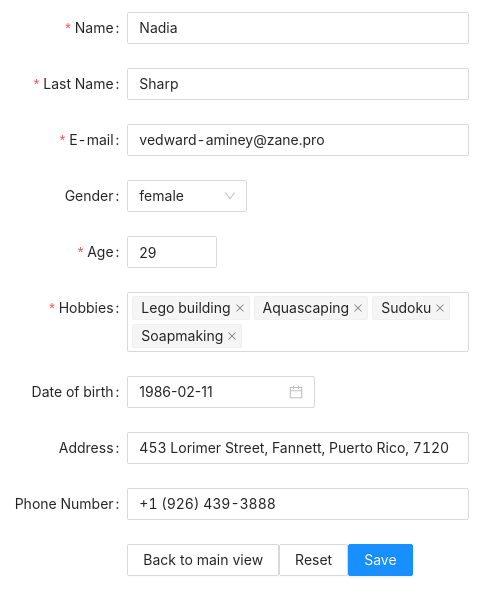
it: User Form Tests › Name validation
Clear the field labelled "Name" at (298, 28), box [127, 12, 468, 44]
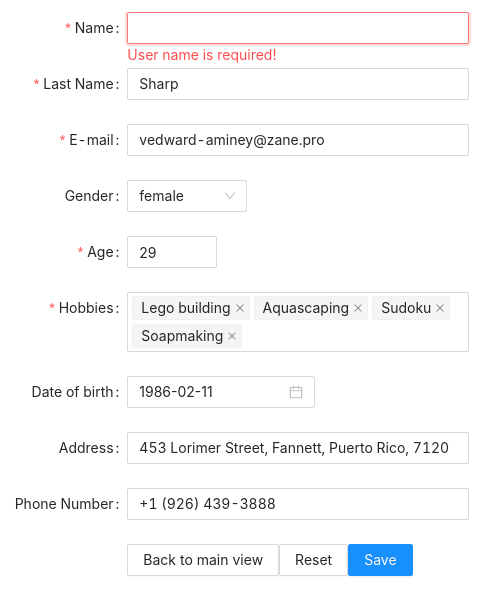
Check: the text "User name is required!" is shown, box [127, 46, 276, 63]
Type "Anna" into the field labelled "Name" at (298, 28), box [127, 12, 468, 44]
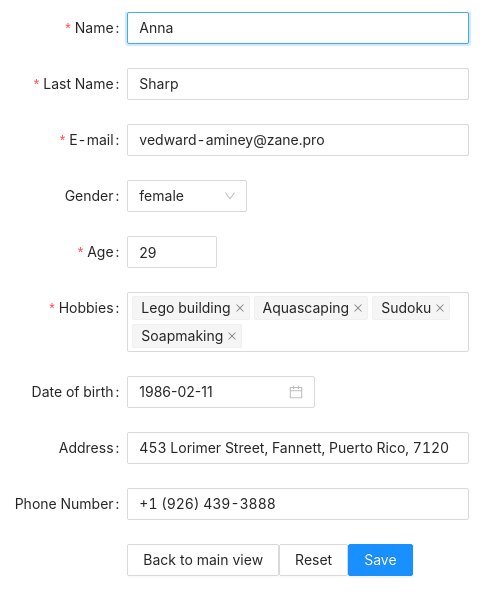
Check: the text "User name is required!" is gone
